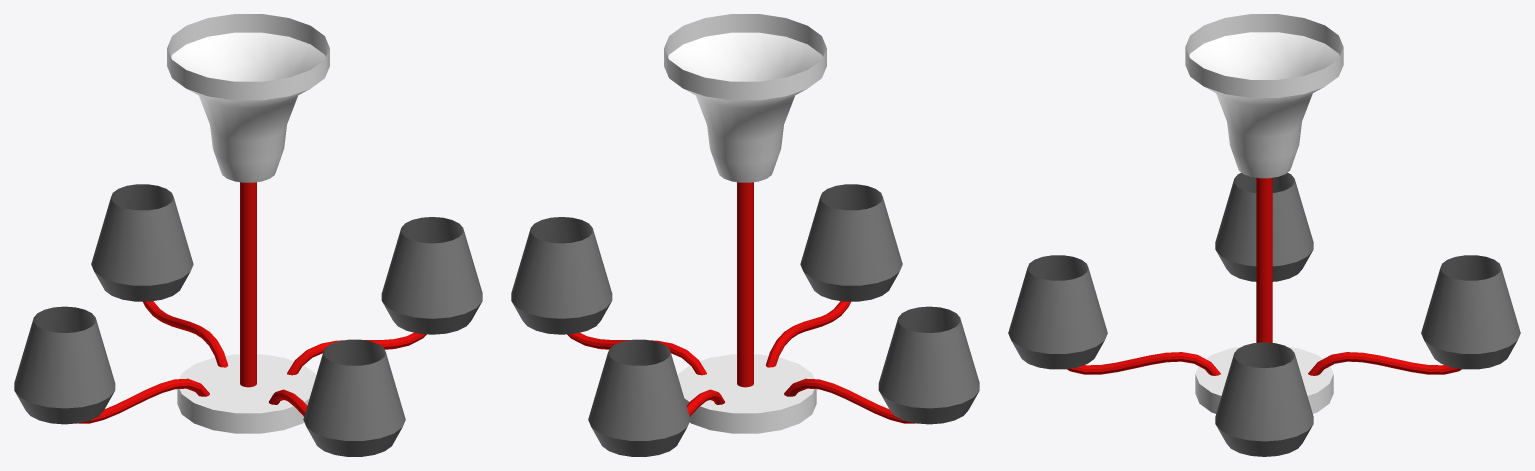
The model's file is deckenlampe.fbx.
The picture shows the model from 3 angles, left to right: view 1: azimuth 30°, elevation 25°; view 2: azimuth 150°, elevation 25°; view 3: azimuth 270°, elevation 25°; orthographic projection. The views are drawn at different scales.
Parts seen in each view (by area): view 1: Circle; view 2: Circle; view 3: Circle.
Part boxes in pixels (left/top/right/bottom): Circle: left=14, top=14, right=482, bottom=456; Circle: left=511, top=14, right=979, bottom=456; Circle: left=1008, top=14, right=1520, bottom=456.
Size of the model in its own units: 73.79 by 55.06 by 73.79.
